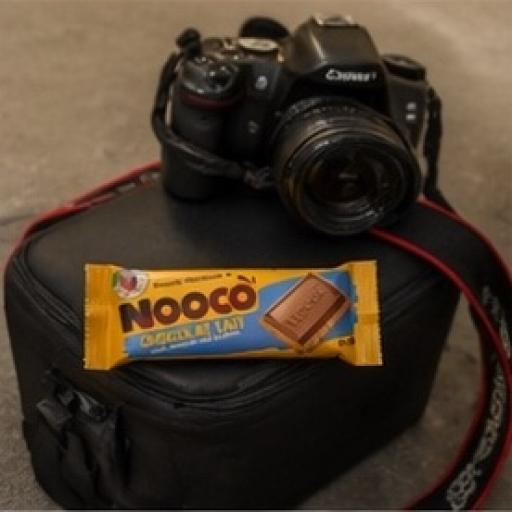biscuit-detection: (57, 206, 434, 419)
